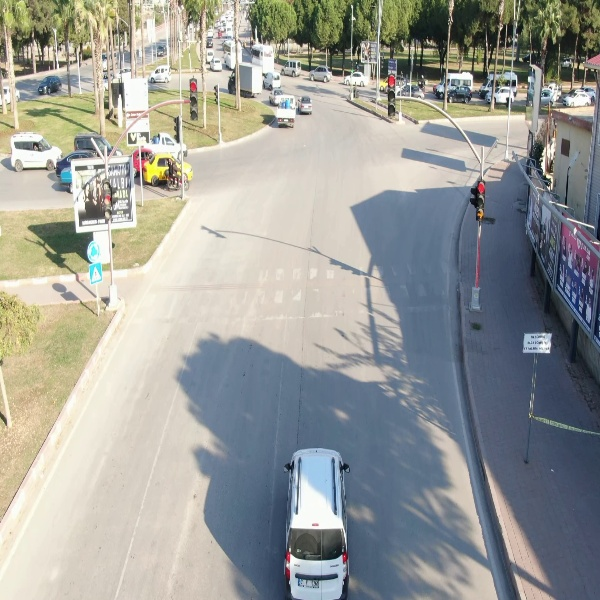car: (281, 446, 355, 600), (7, 131, 67, 172), (36, 73, 64, 96), (560, 88, 591, 108), (306, 63, 334, 85), (445, 85, 474, 106), (277, 58, 301, 78), (148, 65, 174, 83), (296, 93, 313, 118), (341, 69, 366, 86)
